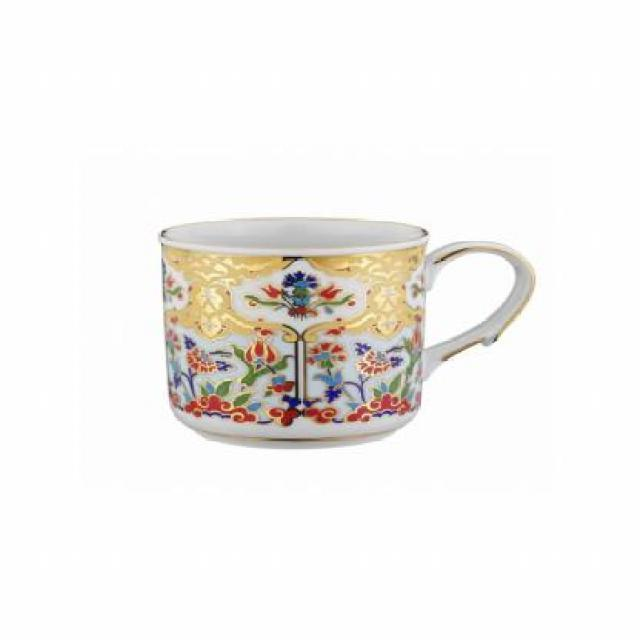taza: (156, 214, 536, 454)
